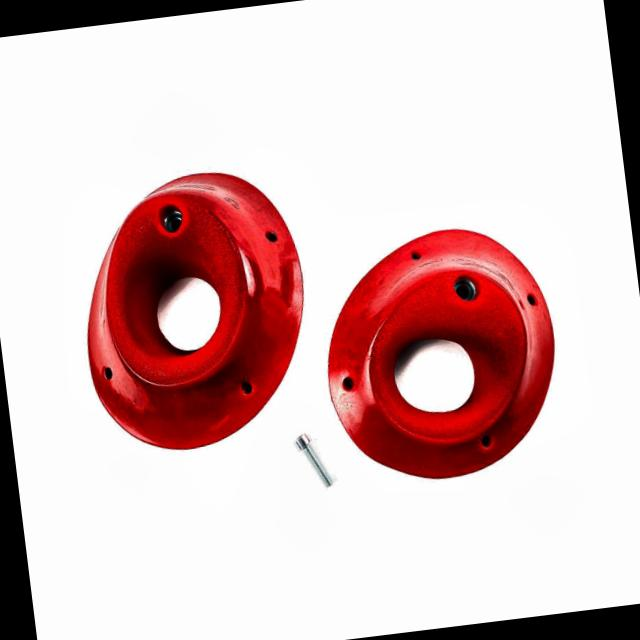Hold: (66, 160, 322, 460), (312, 218, 573, 492)
